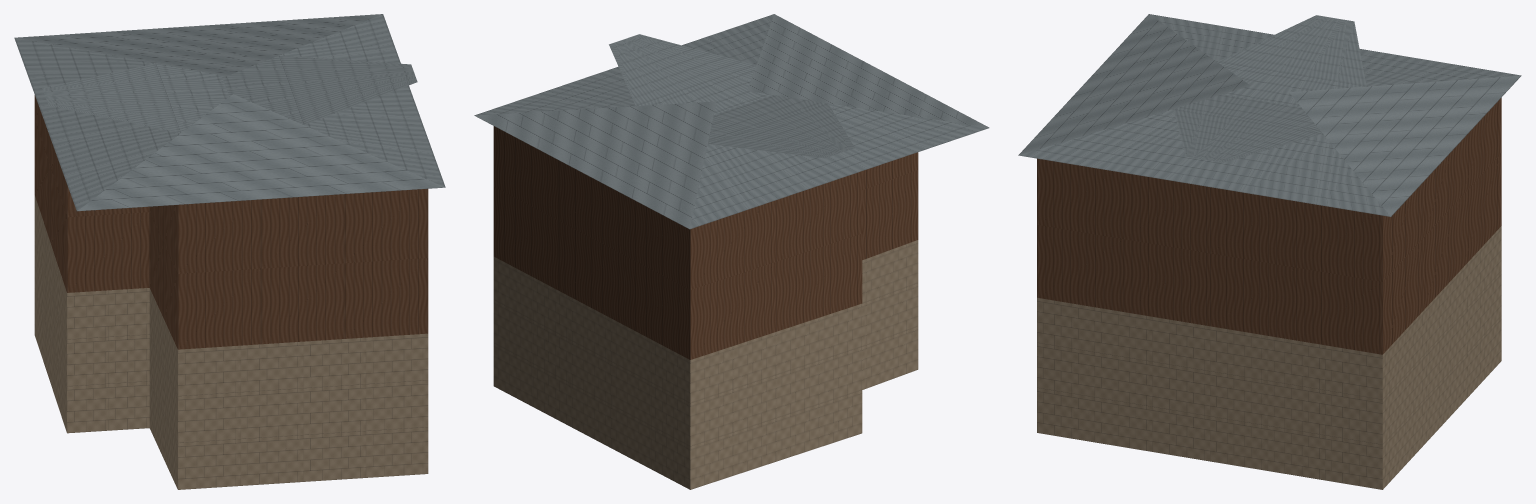
Rendered from bld_c1_17_473.gltf.
3 renders of one model, left to right at view 1: azimuth 30°, elevation 25°; view 2: azimuth 150°, elevation 25°; view 3: azimuth 270°, elevation 25°, orthographic. The views are drawn at different scales.
Visible parts, largest first — view 1: bld_c1_17_473; view 2: bld_c1_17_473; view 3: bld_c1_17_473.
Part boxes in pixels (bbox=[...]): bld_c1_17_473: bbox=[14, 14, 445, 489]; bld_c1_17_473: bbox=[474, 14, 989, 489]; bld_c1_17_473: bbox=[1018, 14, 1521, 489].
Size of the model in its own units: 16.43 by 11.6 by 17.22.
3 materials, 3 textured.
